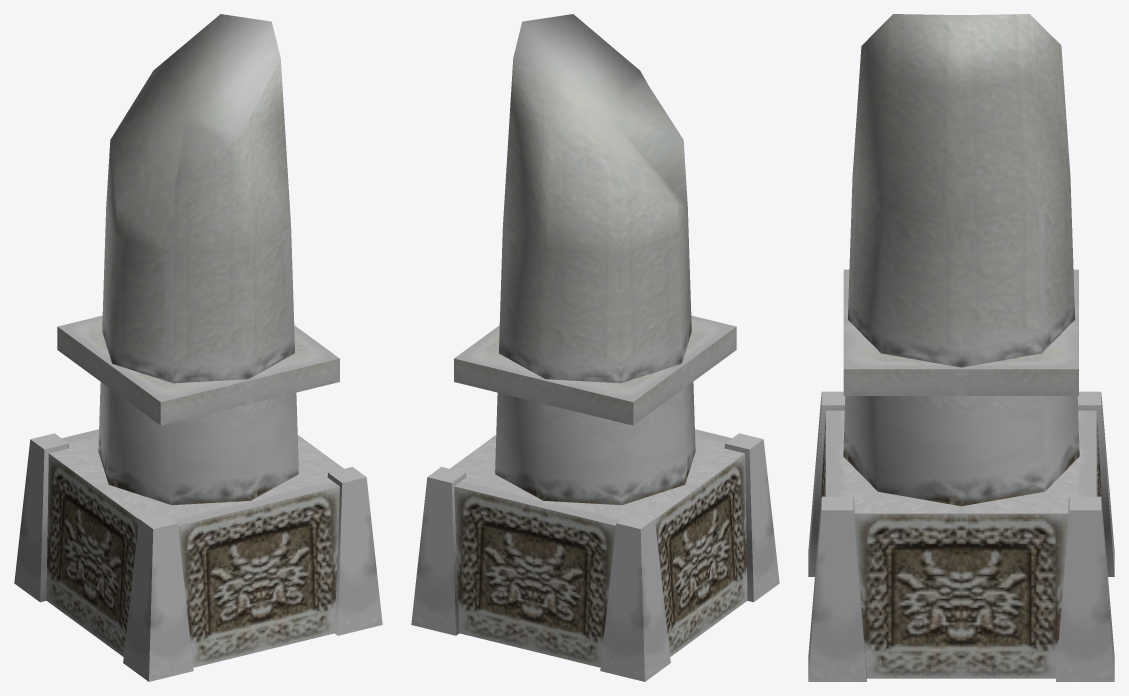
Rendered from general_obj_bigtower01.fbx.
3 views of the same model, side by side, from view 1: azimuth 30°, elevation 25°; view 2: azimuth 150°, elevation 25°; view 3: azimuth 270°, elevation 25° (orthographic). The views are drawn at different scales.
Visible parts, largest first — view 1: Sphere01; view 2: Sphere01; view 3: Sphere01.
Boxes of the visible parts, bbox=[...] form: Sphere01: bbox=[14, 14, 382, 681]; Sphere01: bbox=[411, 14, 779, 681]; Sphere01: bbox=[808, 14, 1114, 681].
Size of the model in its own units: 5.22 by 12.05 by 5.21.
